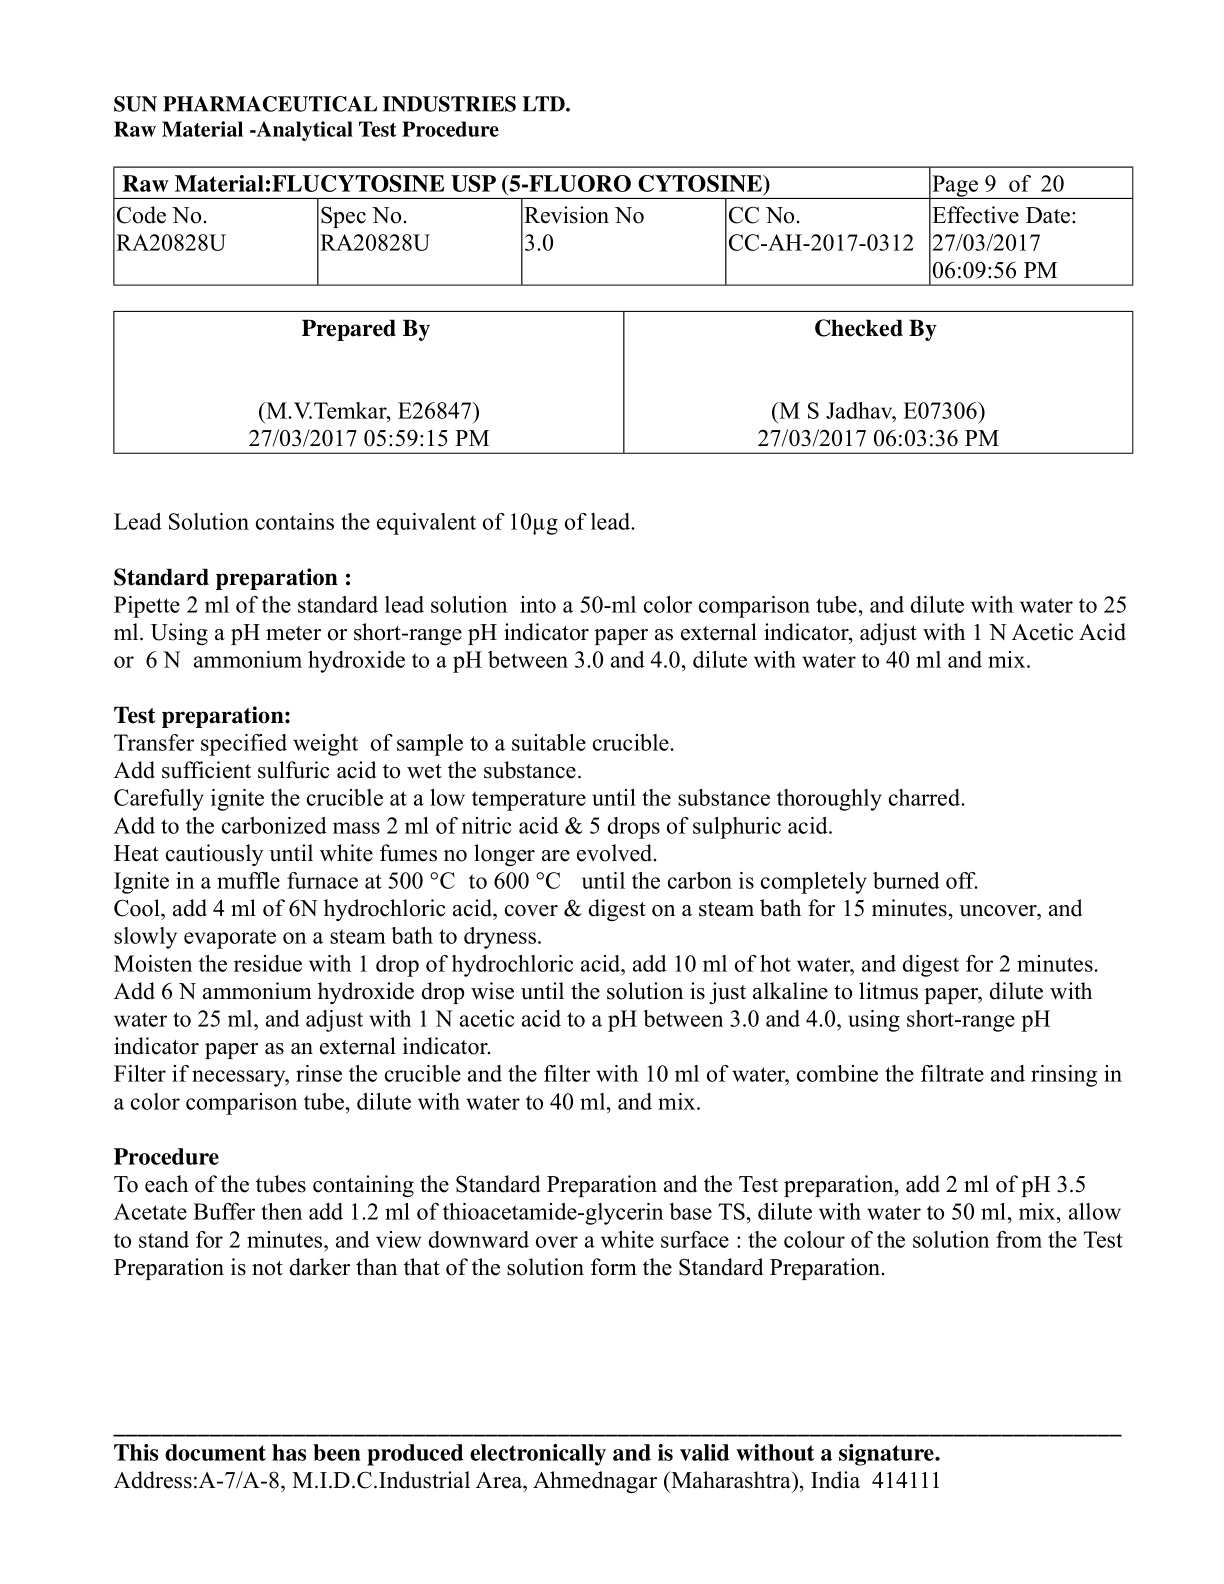full_lined: (111, 309, 1133, 454)
merged_cells: (112, 165, 1134, 285)
